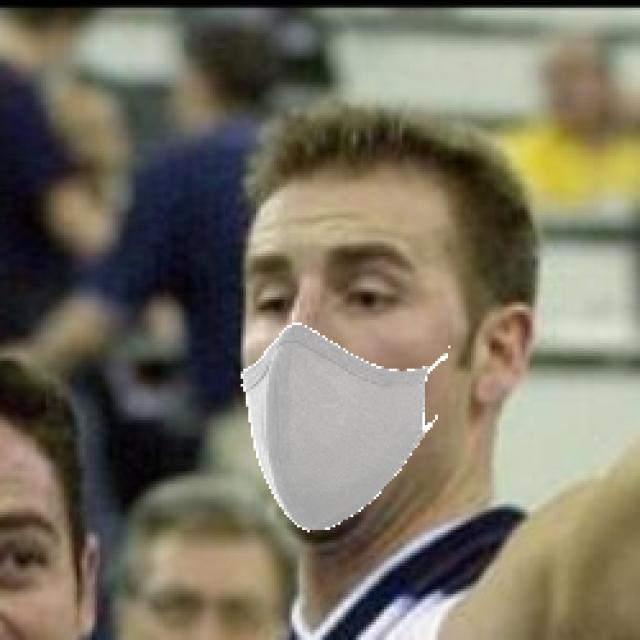mask: (218, 320, 487, 546)
